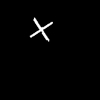single_crochet: (30, 18, 52, 40)
